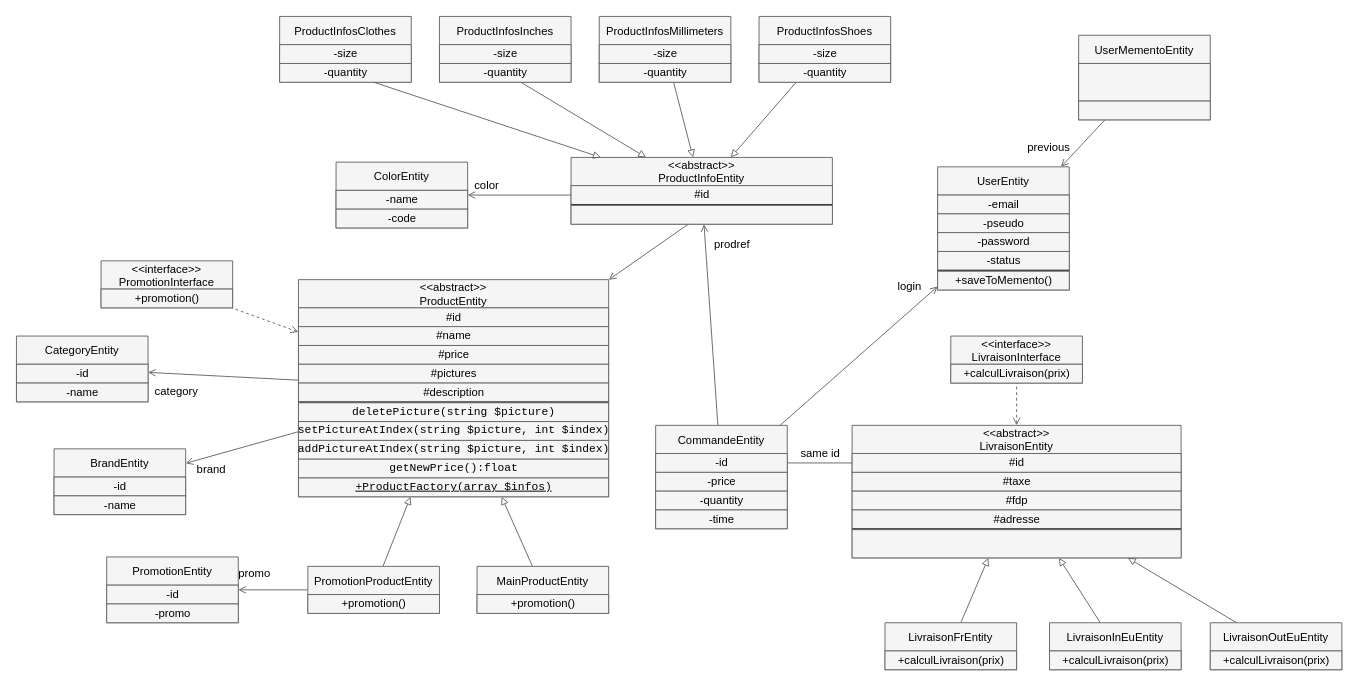
This 1358x686 diagram has some shape labels left out. Here are the shapes that lost their labels. From the top down, the centre of each, then its label:
(1144,110): +getPrevious()
(701,214): +ProductInfosFactory ( array $infos )
(1016,543): +LivraisonFactory ( string $pays , string $add )
